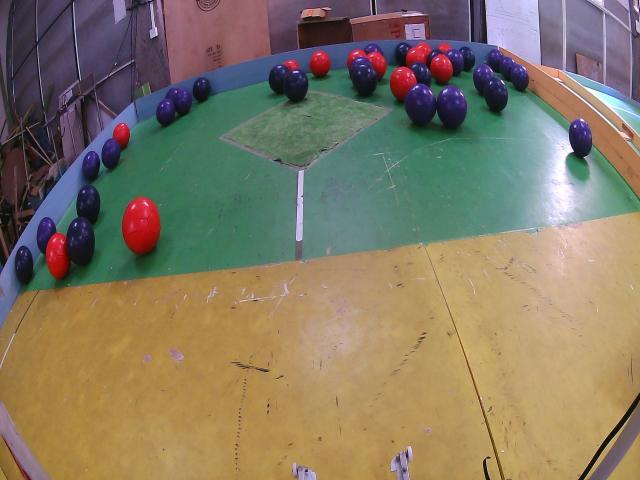jambhalya: (436, 85, 468, 128), (405, 83, 436, 125), (569, 118, 592, 157), (36, 217, 56, 255), (472, 63, 494, 95), (101, 138, 121, 168), (156, 98, 175, 127), (445, 48, 464, 77), (82, 150, 100, 180), (511, 63, 529, 92), (174, 88, 192, 115), (349, 57, 371, 78), (499, 57, 515, 82), (489, 50, 502, 72), (364, 43, 382, 55), (165, 88, 179, 102)
kaalyya: (66, 217, 95, 267), (351, 63, 378, 97), (76, 185, 100, 223), (284, 68, 309, 102), (484, 77, 508, 112), (15, 245, 34, 285), (269, 63, 290, 95), (410, 62, 431, 87), (192, 77, 211, 102), (395, 42, 411, 67), (459, 47, 475, 71), (426, 48, 444, 68)
